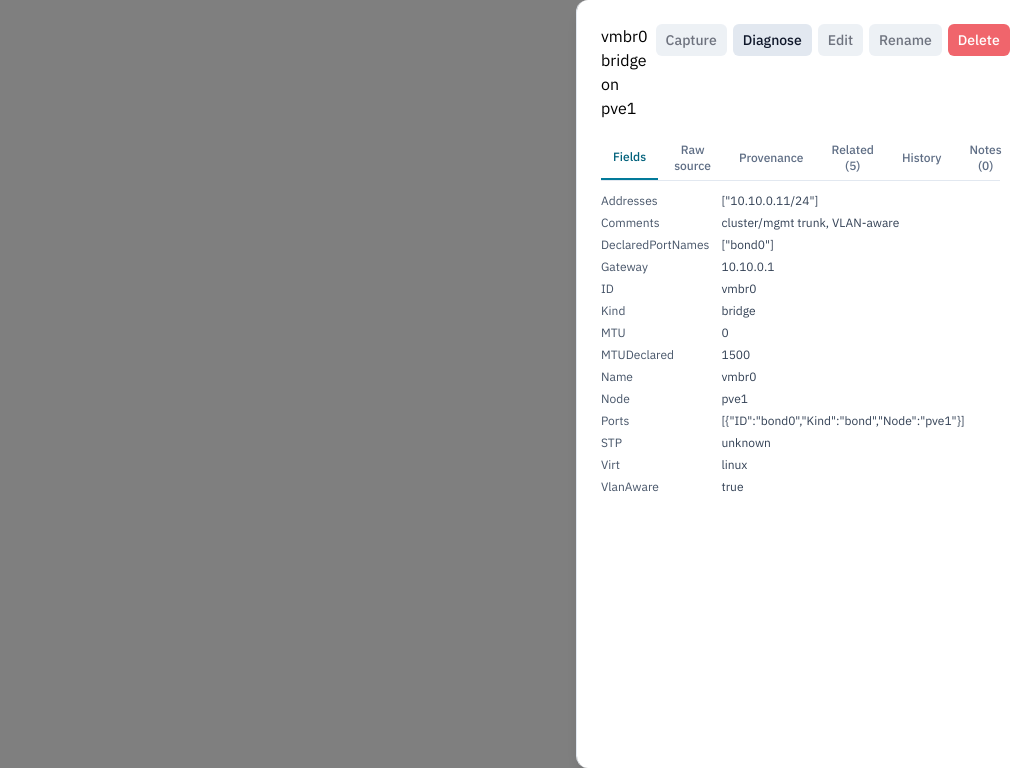
Test case: InspectorPanel › keeps per-field provenance visible on its own tab
Check: the text "STP" is shown, box [601,435,622,450]
Click the tab "Provenance": (771, 158) [727,136,816,180]
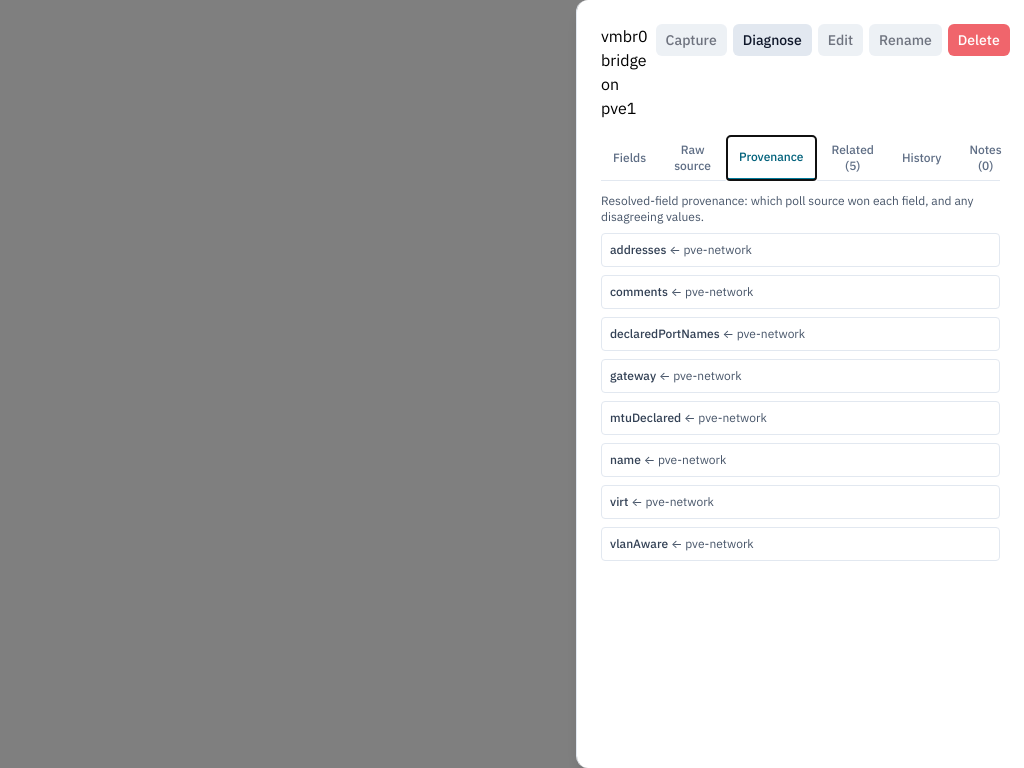
Check: the text "vlanAware" is shown, box [610,536,668,551]
Check: the text "← pve-network" next to "addresses" is shown, box [684,242,752,257]
